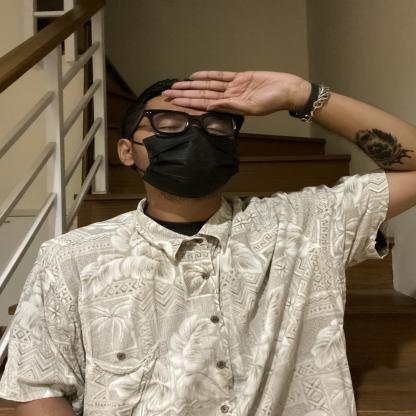Sick: (70, 60, 364, 188)
